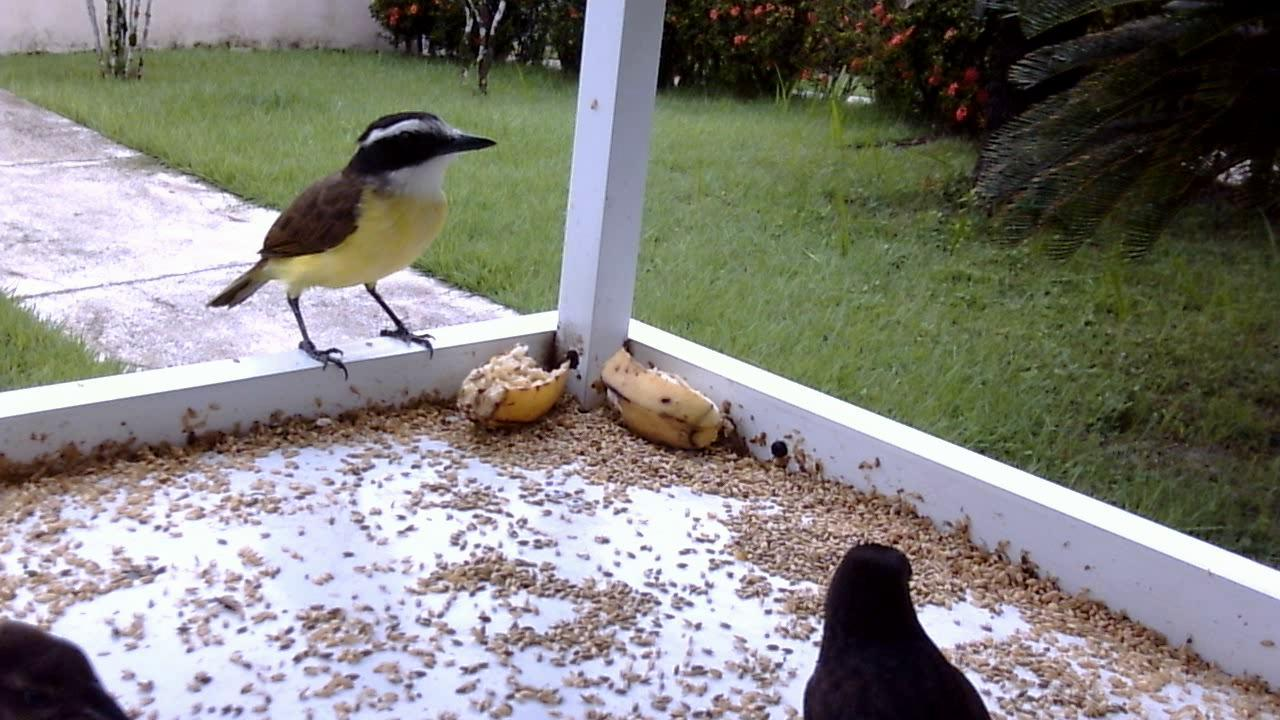bem_te_vi: (202, 105, 507, 388)
chupim: (798, 534, 1001, 720)
